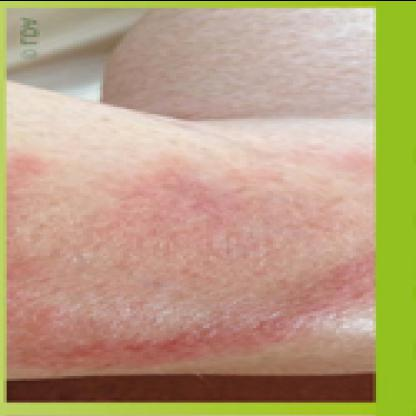Tick: (13, 140, 383, 372)
